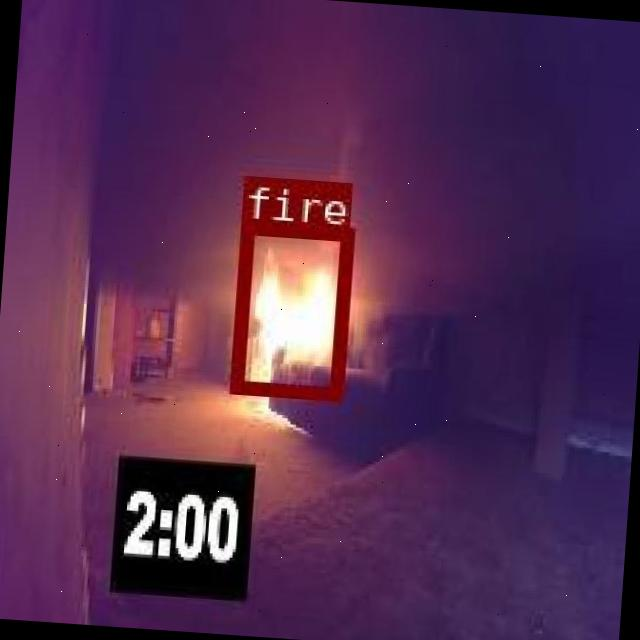fire: (227, 220, 351, 398)
